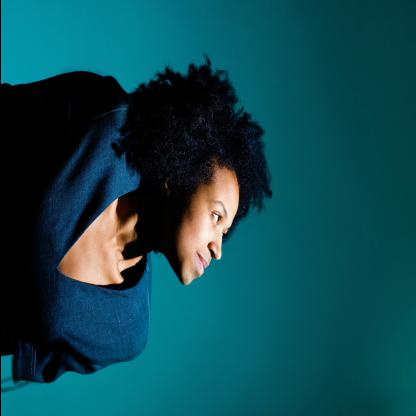Eye: (210, 209, 222, 228), (221, 226, 228, 244)
Mouth: (192, 250, 210, 278)
Nose: (207, 230, 224, 262)
